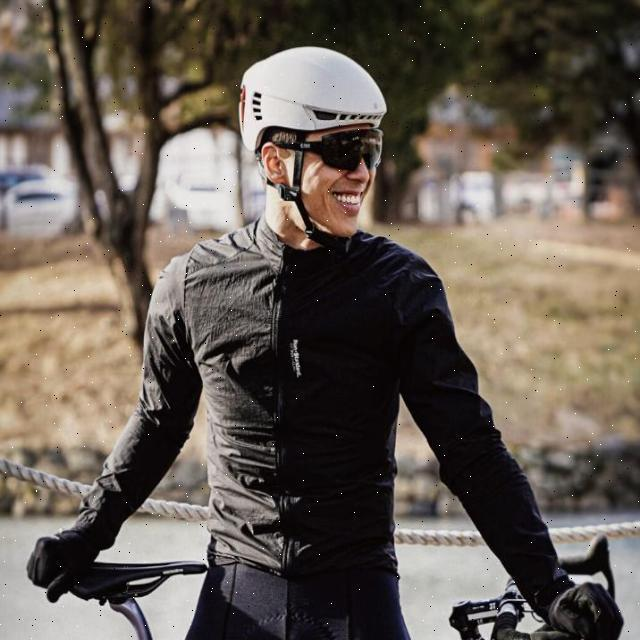helmet: (236, 46, 388, 248)
